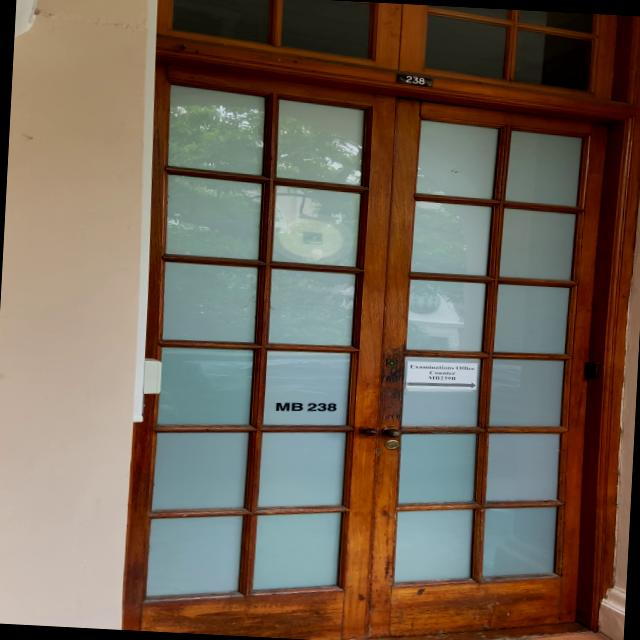room238: (396, 74, 435, 87)
